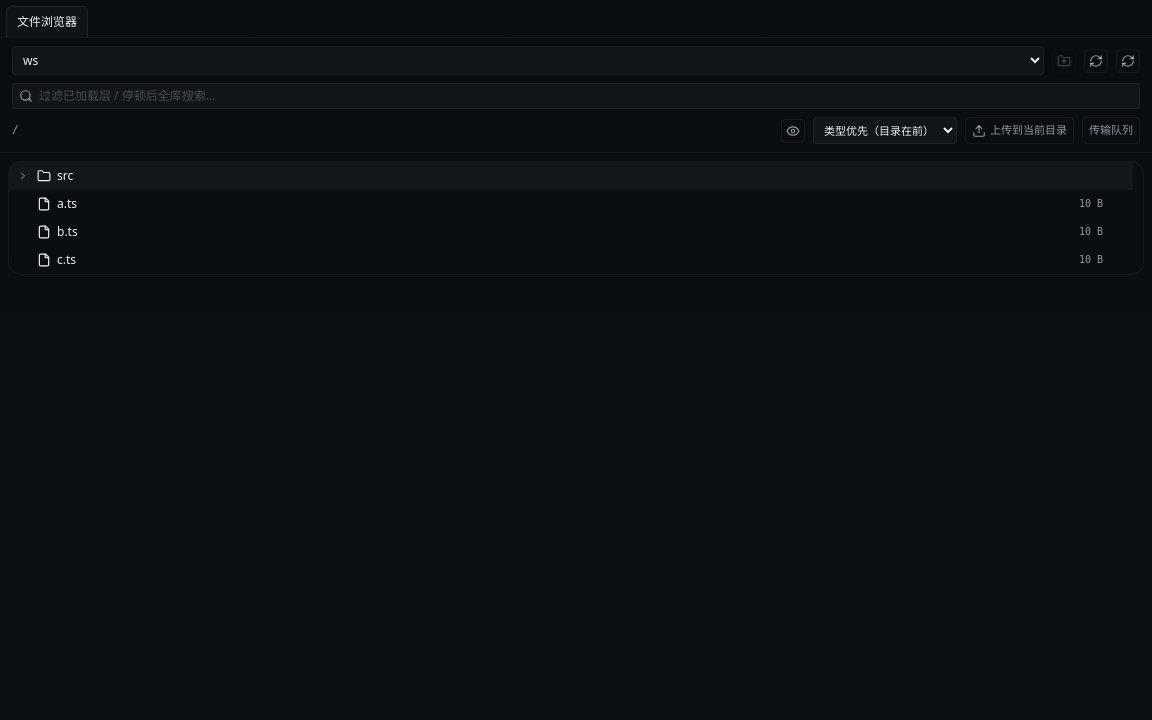
FileBrowserSurface P5：多页签文件管理器 › 文件页签保留放大弹层入口（P1 弹层口径）：点放大开覆盖面板，关闭按钮收回，内联正文不丢
This screenshot has width=1152, height=720.
Click the button "a.ts 10 B" at point(44, 204), box [37, 194, 1103, 214]
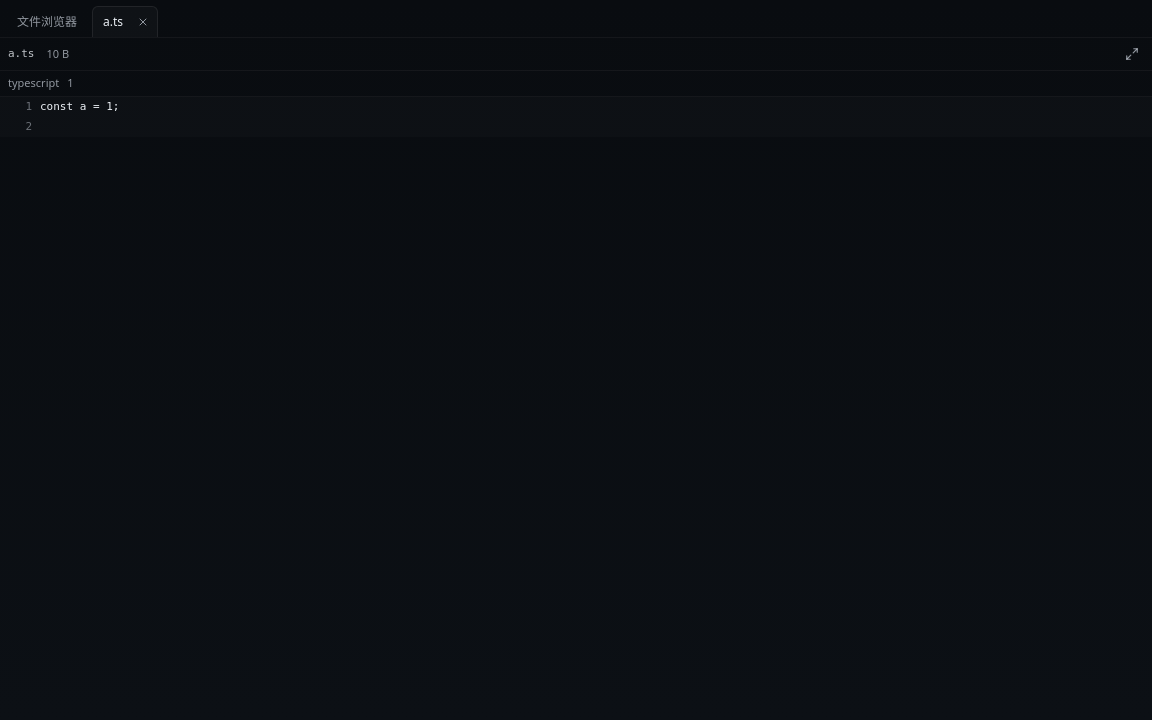
Now the button with test id "file-preview-expand" is shown
Click the button with test id "file-preview-expand" at point(1132, 54), box [1120, 42, 1144, 66]
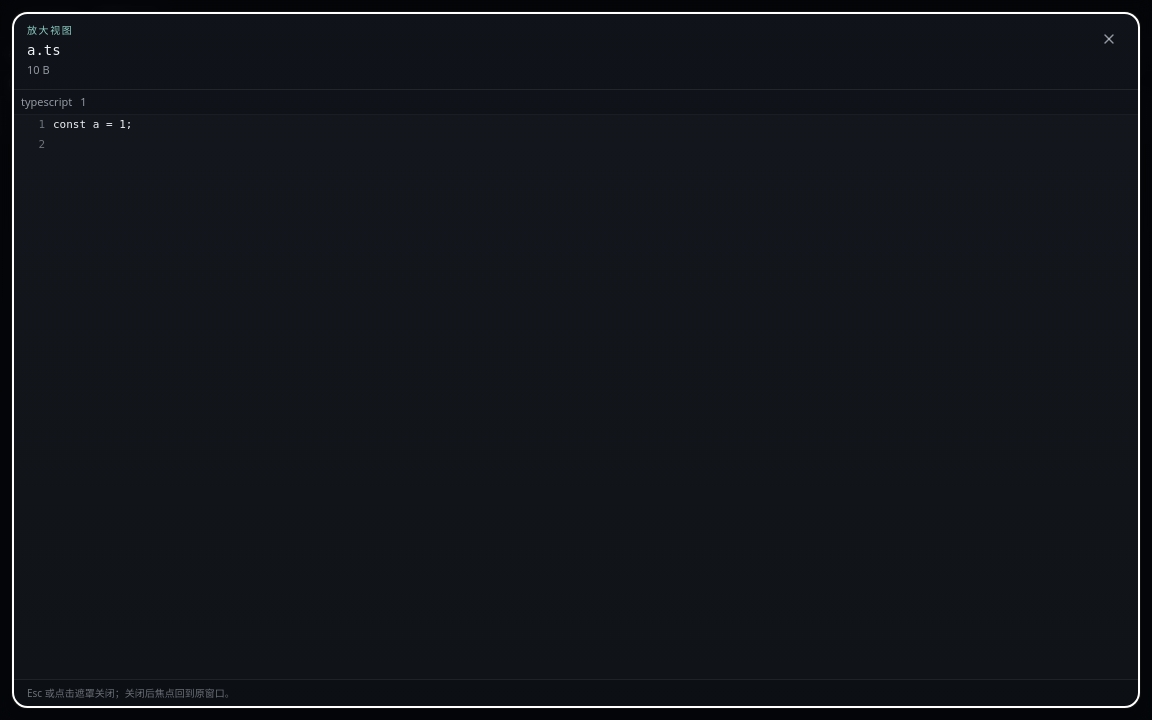
Now the dialog with test id "file-preview-expanded" is shown
Now the button with test id "file-preview-expanded-close" is shown
Click the button with test id "file-preview-expanded-close" at point(1109, 39), box [1093, 23, 1125, 55]
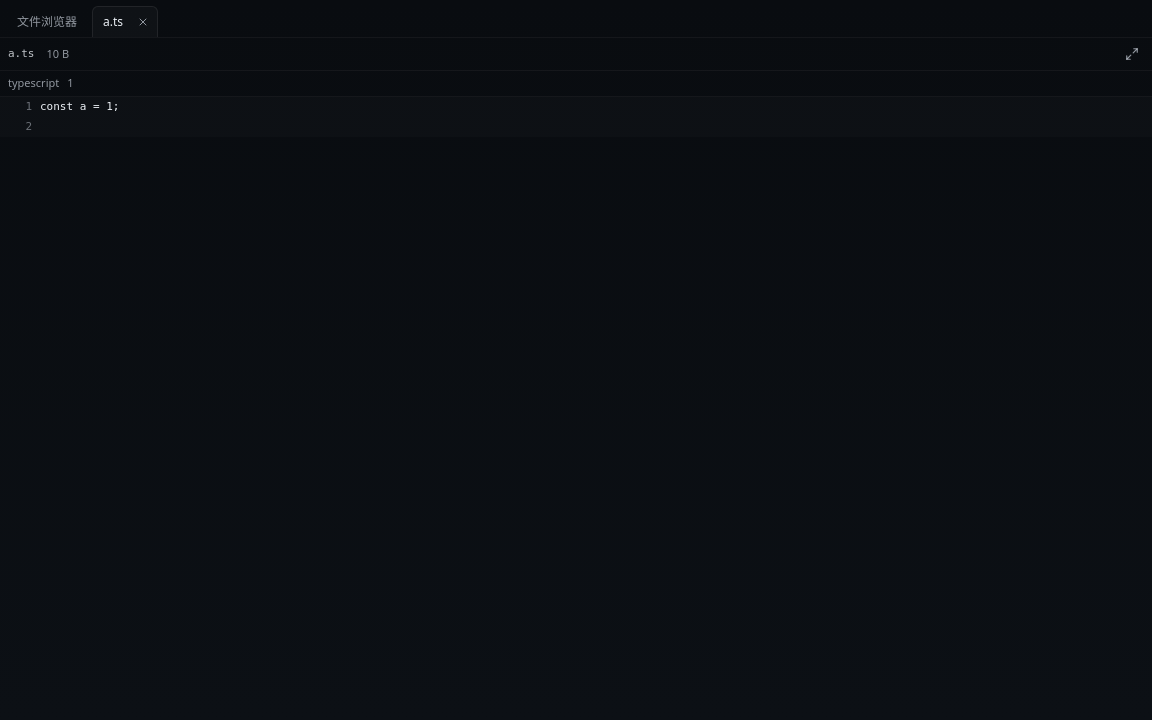
Now the element with test id "file-browser-preview" is shown, box [0, 71, 1151, 136]
Now the dialog with test id "file-preview-expanded" is gone
